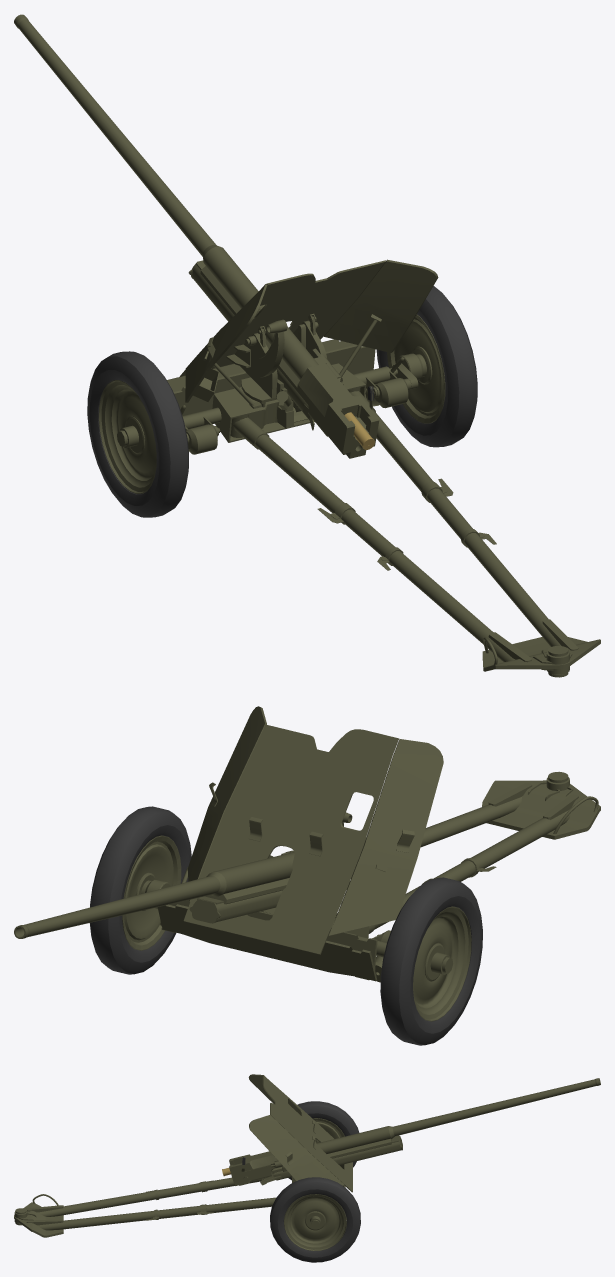
File: ww2-gun.fbx
3 views of the same model, one above another, from view 1: azimuth 30°, elevation 25°; view 2: azimuth 150°, elevation 25°; view 3: azimuth 270°, elevation 25° (orthographic). The views are drawn at different scales.
Parts seen in each view (by area): view 1: Cylinder004, Cylinder020, Cylinder009, Object004, Plane002, Cylinder042, Cylinder043, Cylinder005, Box014, Cylinder010, Object005, Box001 (+6 smaller); view 2: Plane002, Object005, Cylinder004, Cylinder009, Cylinder020, Box003, Cylinder005, Cylinder010, Plane004, Object004, Cylinder042, Cylinder043 (+4 smaller); view 3: Cylinder009, Cylinder020, Cylinder010, Plane002, Object004, Cylinder043, Cylinder042, Cylinder004, Box014, Box013, Plane004, Box012 (+2 smaller).
Part boxes in pixels (bbox=[...]): Cylinder004: bbox=[87, 351, 188, 517]; Cylinder020: bbox=[14, 14, 318, 379]; Cylinder009: bbox=[376, 286, 477, 447]; Object004: bbox=[323, 259, 438, 352]; Plane002: bbox=[179, 260, 385, 376]; Cylinder042: bbox=[255, 434, 514, 661]; Cylinder043: bbox=[372, 409, 561, 646]; Cylinder005: bbox=[98, 380, 156, 493]; Box014: bbox=[297, 363, 379, 453]; Cylinder010: bbox=[387, 314, 445, 423]; Object005: bbox=[185, 284, 267, 402]; Box001: bbox=[212, 363, 366, 442]; Plane002: bbox=[183, 724, 399, 954]; Object005: bbox=[328, 739, 443, 935]; Cylinder004: bbox=[380, 877, 482, 1045]; Cylinder009: bbox=[89, 806, 191, 974]; Cylinder020: bbox=[14, 852, 294, 938]; Box003: bbox=[157, 904, 376, 981]; Cylinder005: bbox=[413, 906, 471, 1021]; Cylinder010: bbox=[122, 835, 181, 950]; Plane004: bbox=[482, 780, 600, 839]; Object004: bbox=[187, 706, 266, 901]; Cylinder042: bbox=[374, 809, 571, 929]; Cylinder043: bbox=[420, 797, 521, 847]; Cylinder009: bbox=[270, 1177, 360, 1262]; Cylinder020: bbox=[316, 1078, 600, 1153]; Cylinder010: bbox=[284, 1194, 346, 1251]; Plane002: bbox=[262, 1075, 352, 1192]; Object004: bbox=[249, 1115, 344, 1185]; Cylinder043: bbox=[37, 1197, 276, 1230]; Cylinder042: bbox=[38, 1177, 266, 1216]; Cylinder004: bbox=[288, 1101, 359, 1180]; Box014: bbox=[229, 1151, 280, 1183]; Box013: bbox=[274, 1135, 401, 1180]; Plane004: bbox=[14, 1202, 63, 1237]; Box012: bbox=[272, 1138, 391, 1173].
Bounding box in the file's own units: 534 × 425 × 1556.
